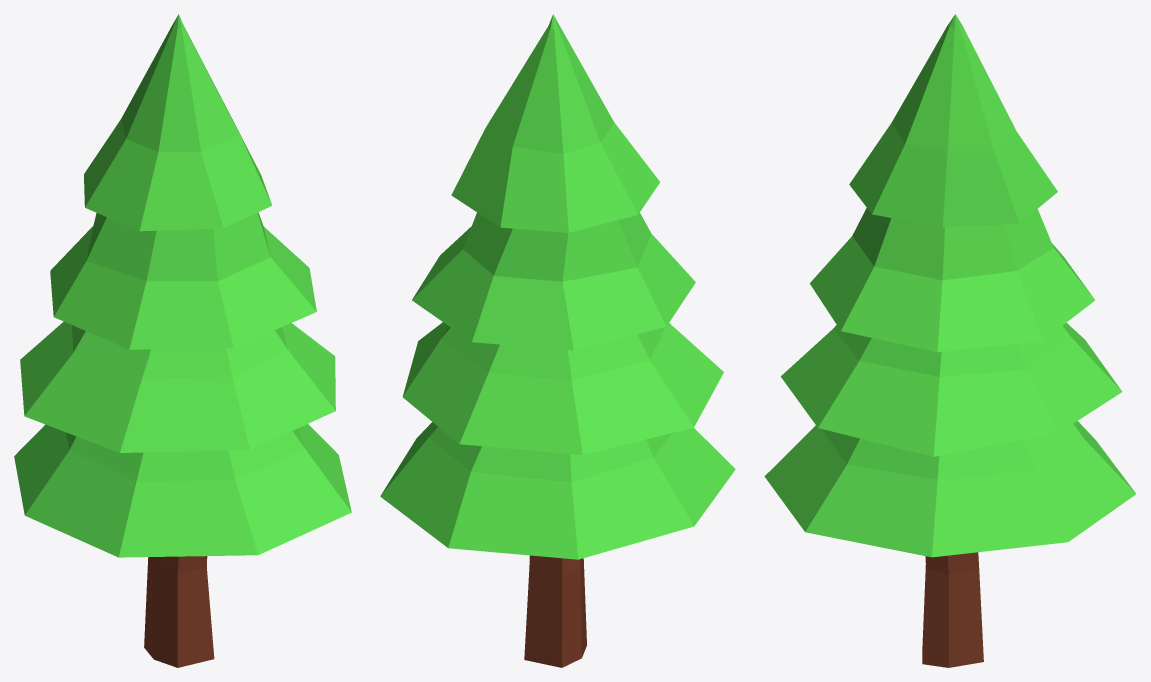
File: Tree1.fbx
3 views of the same model, side by side, from view 1: azimuth 30°, elevation 25°; view 2: azimuth 150°, elevation 25°; view 3: azimuth 270°, elevation 25° (orthographic).
Parts seen in each view (by area): view 1: Tree.001; view 2: Tree.001; view 3: Tree.001.
Part boxes in pixels (bbox=[...]): Tree.001: bbox=[14, 14, 351, 667]; Tree.001: bbox=[380, 14, 735, 667]; Tree.001: bbox=[764, 14, 1135, 667].
Bounding box in the file's own units: 294 × 606 × 319.
